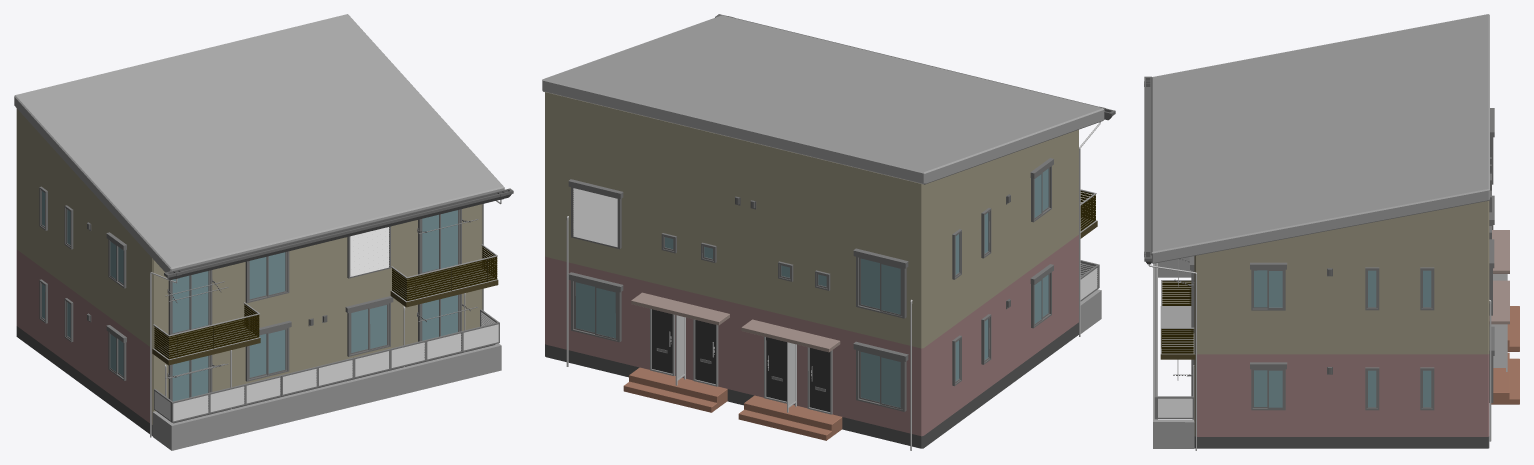
File: House_008_high.fbx
The picture shows the model from 3 angles, left to right: view 1: azimuth 30°, elevation 25°; view 2: azimuth 150°, elevation 25°; view 3: azimuth 270°, elevation 25°; orthographic projection. The views are drawn at different scales.
Visible parts, largest first — view 1: polySurface7; view 2: polySurface7; view 3: polySurface7.
Boxes of the visible parts, x1,y1,x2,y2 form: polySurface7: (14,14,513,450); polySurface7: (542,14,1115,450); polySurface7: (1144,14,1519,450).
Size of the model in its own units: 11.68 by 7.95 by 10.19.
